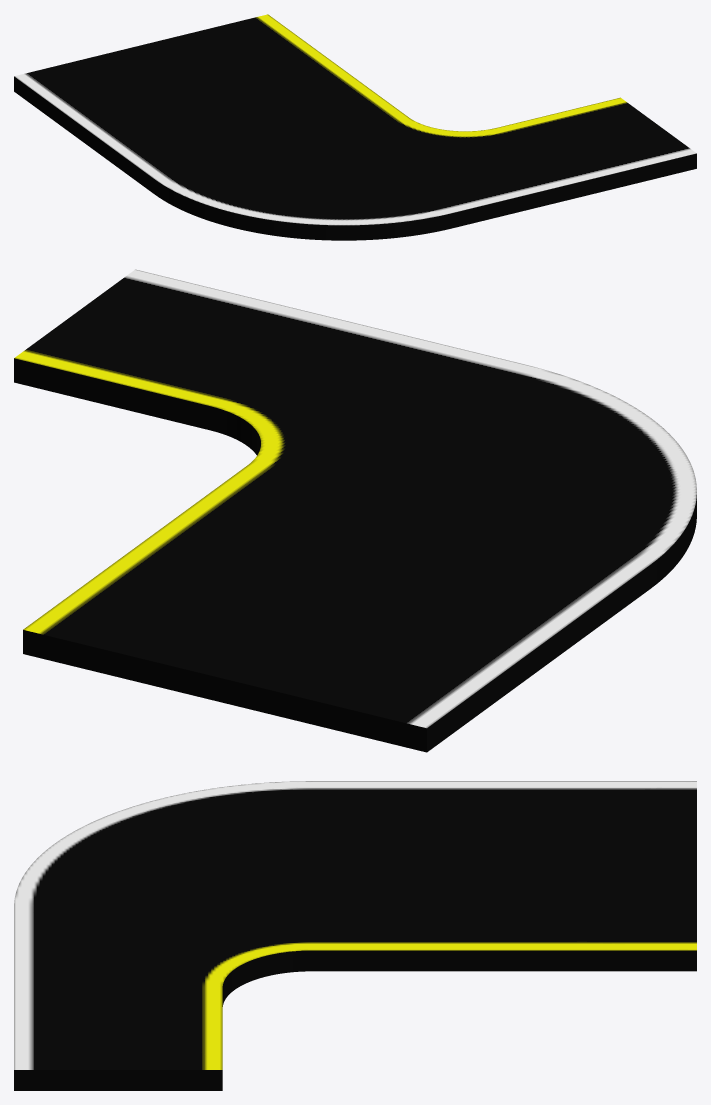
Rendered from Panel_R04_C01__Road_00.dae.
3 renders of one model, top to bottom at view 1: azimuth 30°, elevation 25°; view 2: azimuth 150°, elevation 25°; view 3: azimuth 270°, elevation 25°, orthographic. The views are drawn at different scales.
Parts seen in each view (by area): view 1: Object; view 2: Object; view 3: Object.
Boxes of the visible parts, <box> form: Object: <box>14,14,696,240</box>; Object: <box>14,269,696,752</box>; Object: <box>14,781,696,1090</box>.
Size of the model in its own units: 0.8918 by 0.8908 by 0.03.
Materials: 2 (1 with a texture image).
